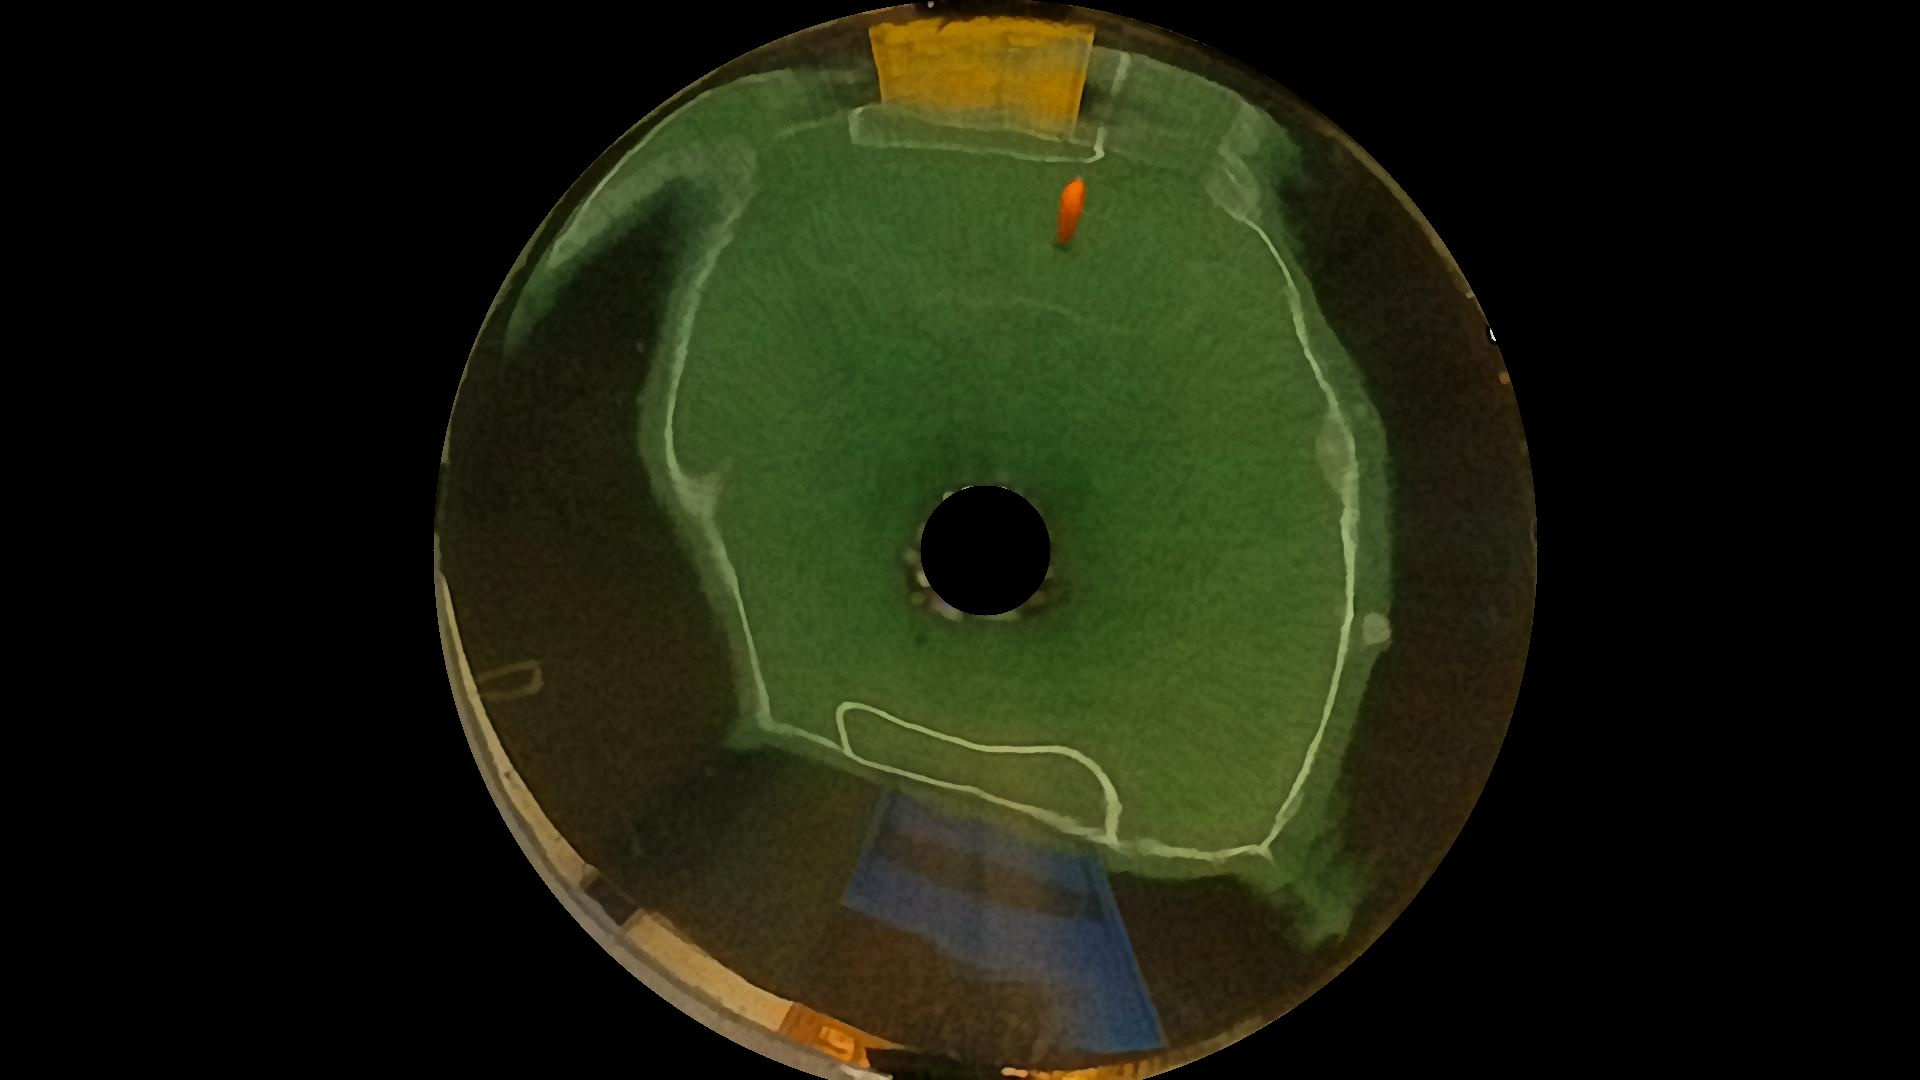ball: (1052, 175, 1098, 243)
blue-goal: (864, 796, 1156, 1048)
yellow-goal: (864, 30, 1077, 127)
